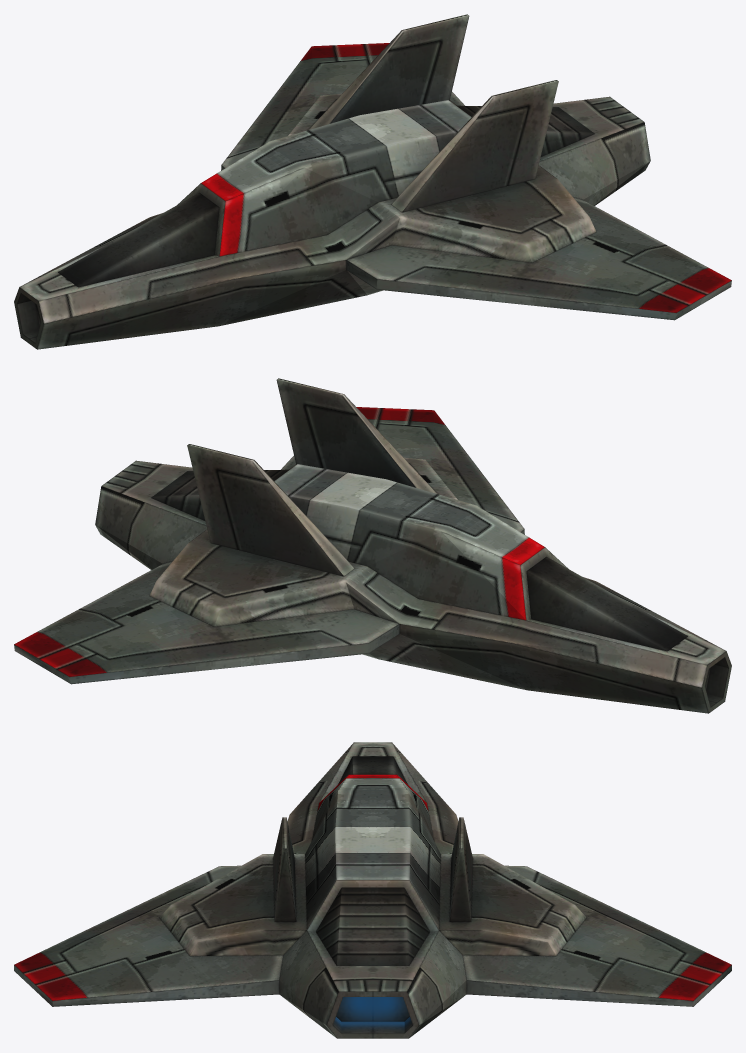
File: space_frigate.fbx
3 renders of one model, top to bottom at view 1: azimuth 30°, elevation 25°; view 2: azimuth 150°, elevation 25°; view 3: azimuth 270°, elevation 25°, orthographic.
Visible parts, largest first — view 1: space_frig; view 2: space_frig; view 3: space_frig.
Boxes of the visible parts, x1,y1,x2,y2 form: space_frig: [14, 14, 731, 349]; space_frig: [14, 378, 731, 713]; space_frig: [14, 742, 731, 1038].
Size of the model in its own units: 67.44 by 19.5 by 71.16.
Materials: 1 (1 with a texture image).
